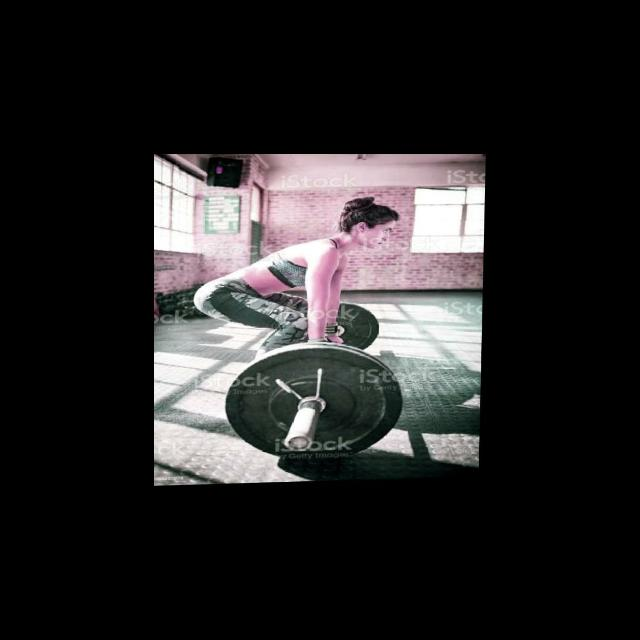barbell: (224, 344, 408, 468)
